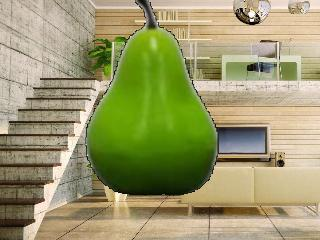pear: (85, 0, 218, 195)
